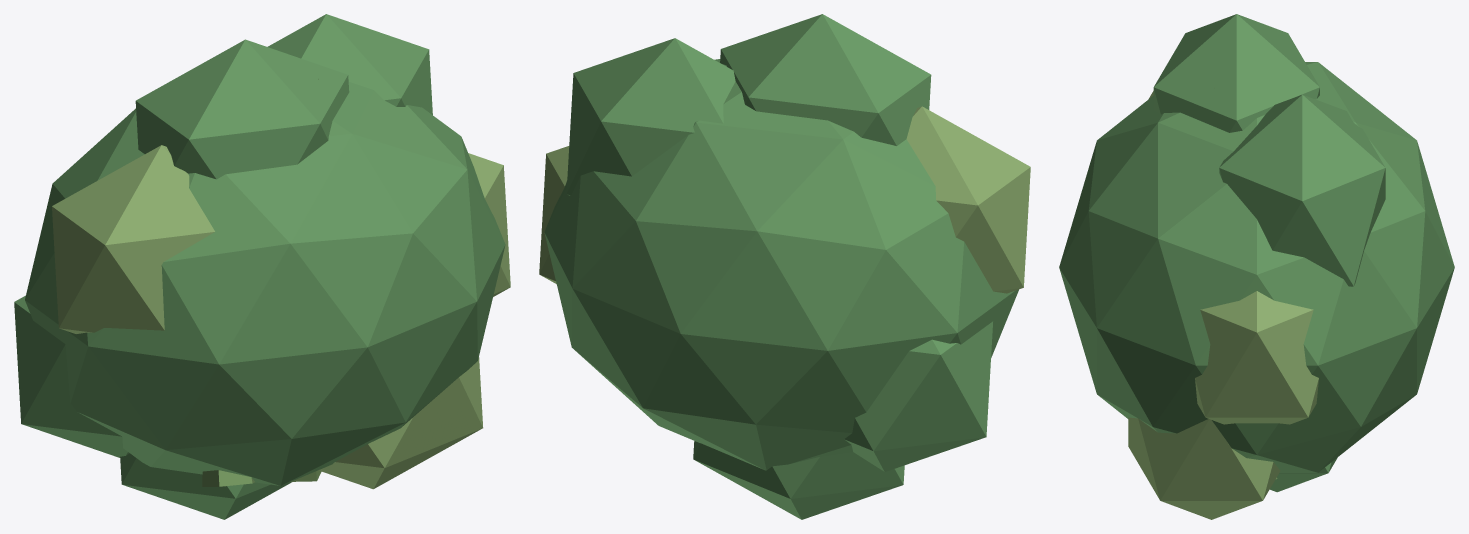
Rendered from atlas_bush_fern.glb.
3 renders of one model, left to right at view 1: azimuth 30°, elevation 25°; view 2: azimuth 150°, elevation 25°; view 3: azimuth 270°, elevation 25°, orthographic. The views are drawn at different scales.
Visible parts, largest first — view 1: Bush_Core, Bush_Leaf.002, Bush_Leaf.003, Bush_Leaf.001, Bush_Leaf.006, Bush_Leaf.004, Bush_Leaf.005, Bush_Leaf, Fern_Frond.003; view 2: Bush_Core, Bush_Leaf.002, Bush_Leaf.001, Bush_Leaf.004, Bush_Leaf.003, Bush_Leaf.005, Bush_Leaf; view 3: Bush_Core, Bush_Leaf.001, Bush_Leaf, Bush_Leaf.002, Bush_Leaf.006, Bush_Leaf.005.
Boxes of the visible parts, box(x1,y1,x2,y2) form: Bush_Core: box(25, 82, 505, 485); Bush_Leaf.002: box(135, 39, 349, 179); Bush_Leaf.003: box(52, 145, 214, 333); Bush_Leaf.001: box(267, 14, 432, 114); Bush_Leaf.006: box(318, 357, 483, 489); Bush_Leaf.004: box(14, 295, 129, 457); Bush_Leaf.005: box(120, 453, 291, 519); Bush_Leaf: box(468, 153, 510, 296); Fern_Frond.003: box(202, 470, 254, 486); Bush_Core: box(544, 59, 1018, 470); Bush_Leaf.002: box(720, 14, 931, 145); Bush_Leaf.001: box(566, 38, 735, 195); Bush_Leaf.004: box(844, 321, 992, 471); Bush_Leaf.003: box(906, 106, 1030, 293); Bush_Leaf.005: box(693, 441, 904, 519); Bush_Leaf: box(539, 146, 569, 283); Bush_Core: box(1059, 62, 1454, 472); Bush_Leaf.001: box(1219, 94, 1385, 286); Bush_Leaf: box(1195, 291, 1318, 424); Bush_Leaf.002: box(1153, 14, 1319, 132); Bush_Leaf.006: box(1128, 417, 1280, 519); Bush_Leaf.005: box(1270, 457, 1337, 492).
Bounding box in the file's own units: 2.22 × 2.27 × 1.7.
